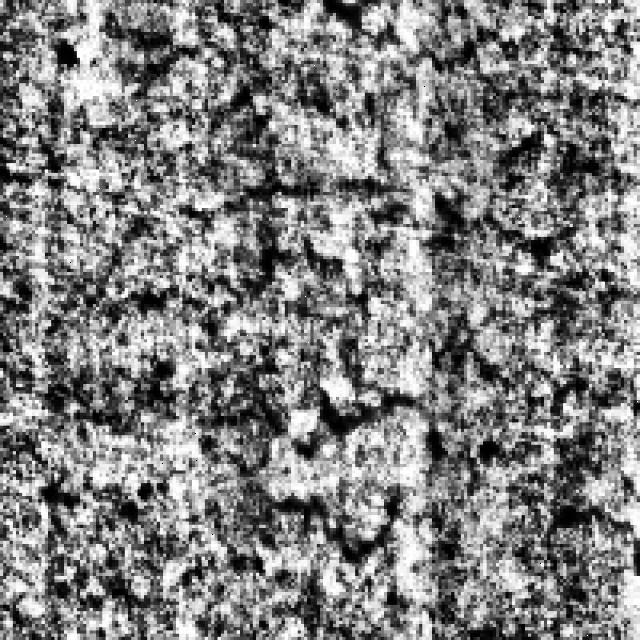Pitted_Surface: (156, 80, 612, 317), (42, 384, 454, 589)
